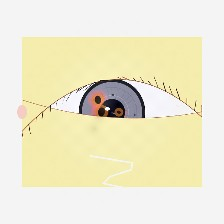foreign_body_visible: (79, 94, 124, 130)
